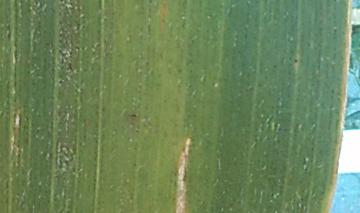tarspot: (55, 76, 66, 87), (292, 55, 300, 68)
